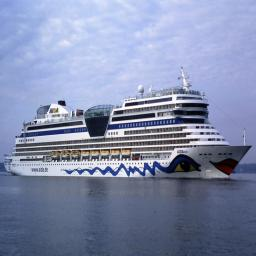cruises: (9, 66, 254, 182)
